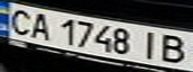1: (51, 16, 78, 46)
4: (90, 22, 115, 54)
7: (72, 18, 93, 48)
8: (112, 25, 136, 56)
A: (24, 10, 57, 40)
B: (154, 31, 193, 64)
C: (3, 6, 36, 36)
I: (136, 28, 163, 61)
